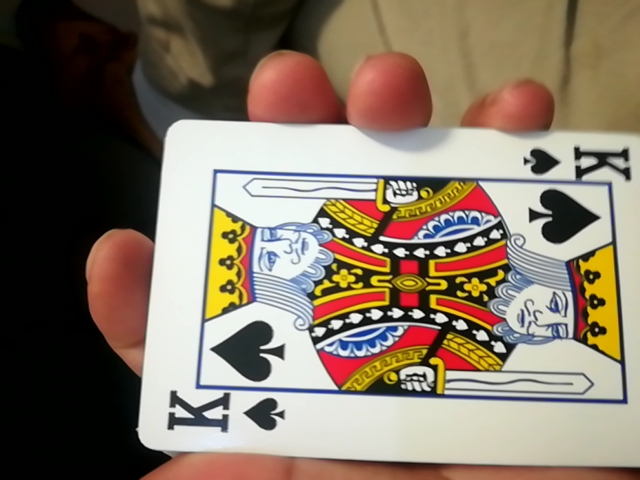ht k: (119, 115, 634, 478)
